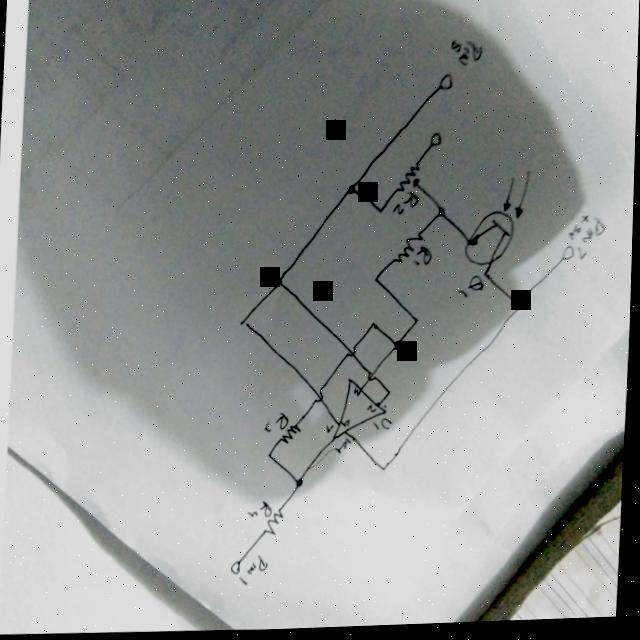crossover: (311, 391, 328, 406), (344, 347, 360, 361), (365, 372, 381, 386)
junction: (296, 479, 307, 491), (515, 303, 526, 314), (437, 209, 447, 221), (241, 319, 251, 331), (483, 272, 493, 283), (380, 466, 390, 477), (377, 207, 387, 218), (348, 186, 358, 197), (374, 276, 384, 287), (411, 319, 421, 330), (395, 342, 405, 353), (385, 390, 395, 401), (371, 322, 381, 333), (275, 278, 285, 289), (267, 452, 277, 463)
resistor: (391, 234, 425, 268), (393, 164, 422, 196), (265, 510, 289, 540), (279, 424, 305, 447)
terminal: (427, 132, 445, 154), (437, 73, 455, 94), (229, 559, 246, 578), (561, 247, 578, 265)
text: (567, 215, 610, 265), (241, 556, 273, 589), (449, 39, 483, 69), (393, 193, 421, 218), (458, 278, 486, 301), (266, 413, 292, 434), (248, 501, 276, 520), (412, 249, 434, 271), (335, 440, 355, 456), (372, 420, 393, 434), (366, 406, 380, 416), (324, 426, 336, 437), (353, 389, 364, 399), (342, 420, 353, 429)
transistor: (463, 172, 534, 272)
